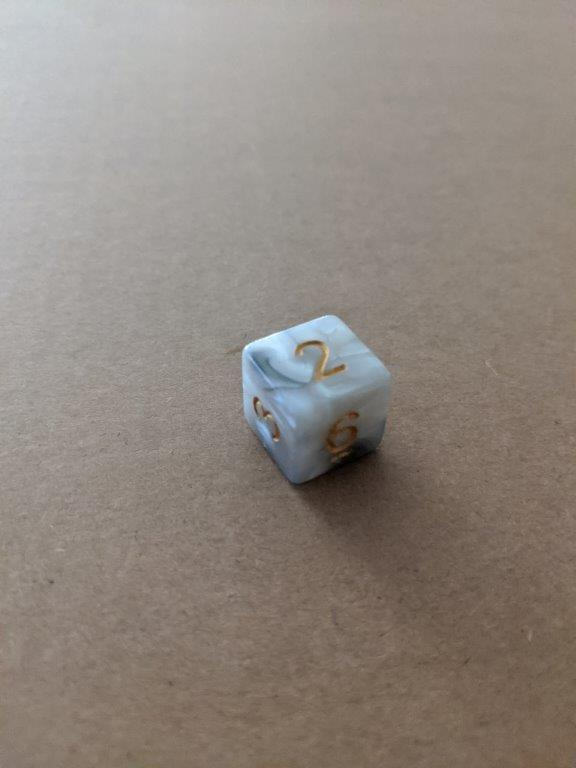d6-2: (238, 313, 389, 485)
